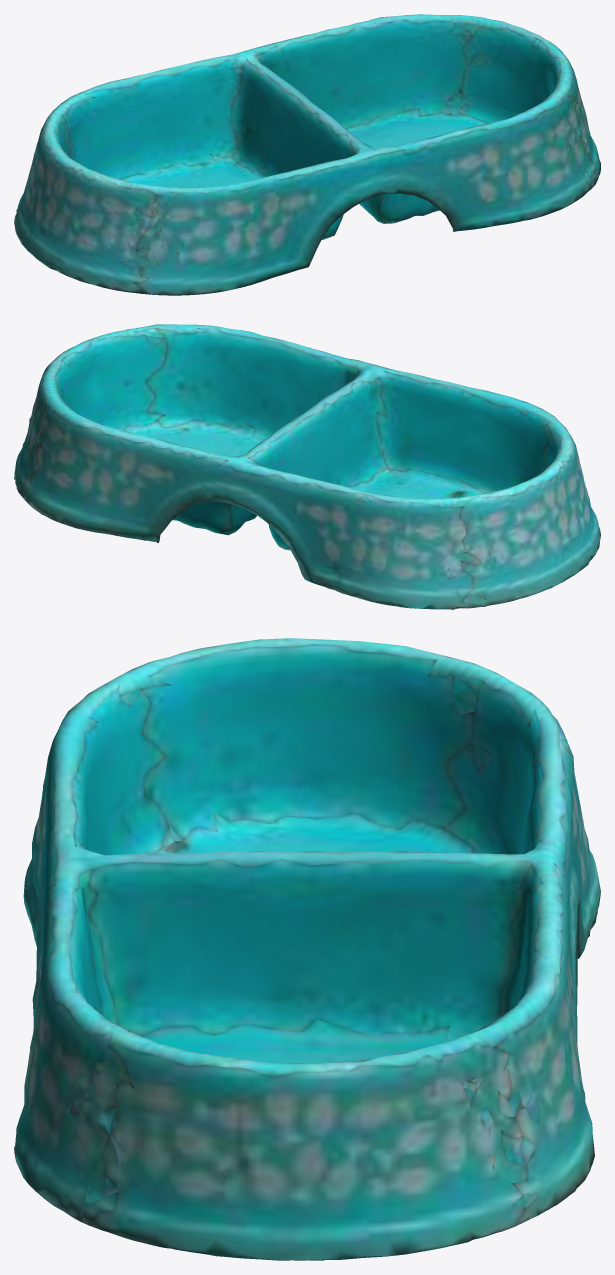
The model's file is cat food bowl.glb.
3 renders of one model, top to bottom at view 1: azimuth 30°, elevation 25°; view 2: azimuth 150°, elevation 25°; view 3: azimuth 270°, elevation 25°, orthographic. The views are drawn at different scales.
Visible parts, largest first — view 1: Mesh_0.005_Material_0.001_0; view 2: Mesh_0.005_Material_0.001_0; view 3: Mesh_0.005_Material_0.001_0.
Boxes of the visible parts, x1,y1,x2,y2 form: Mesh_0.005_Material_0.001_0: [14, 14, 600, 295]; Mesh_0.005_Material_0.001_0: [14, 324, 600, 609]; Mesh_0.005_Material_0.001_0: [14, 638, 600, 1260].
Size of the model in its own units: 0.2616 by 0.045 by 0.1365.
1 material, 1 textured.
